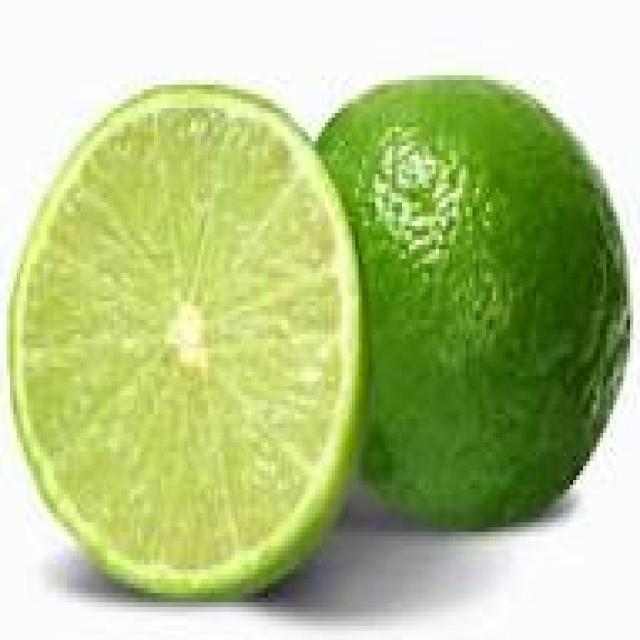lemon: (3, 75, 637, 602)
